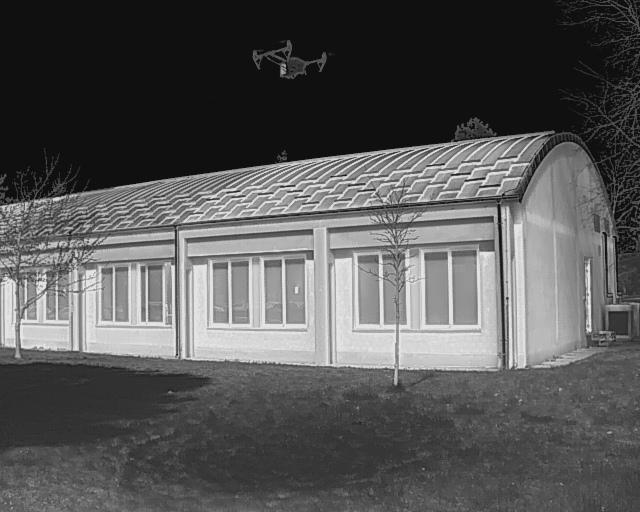drone: (244, 29, 341, 92)
